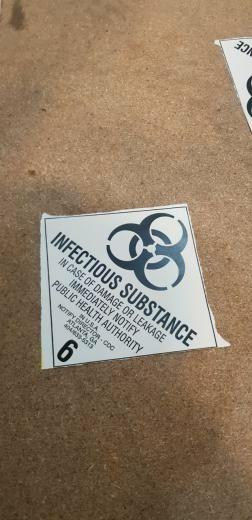infectious-substance: (44, 204, 219, 365)
